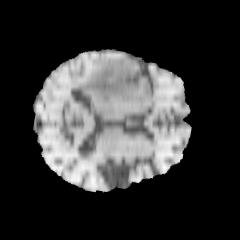glioma: (77, 59, 141, 104)
